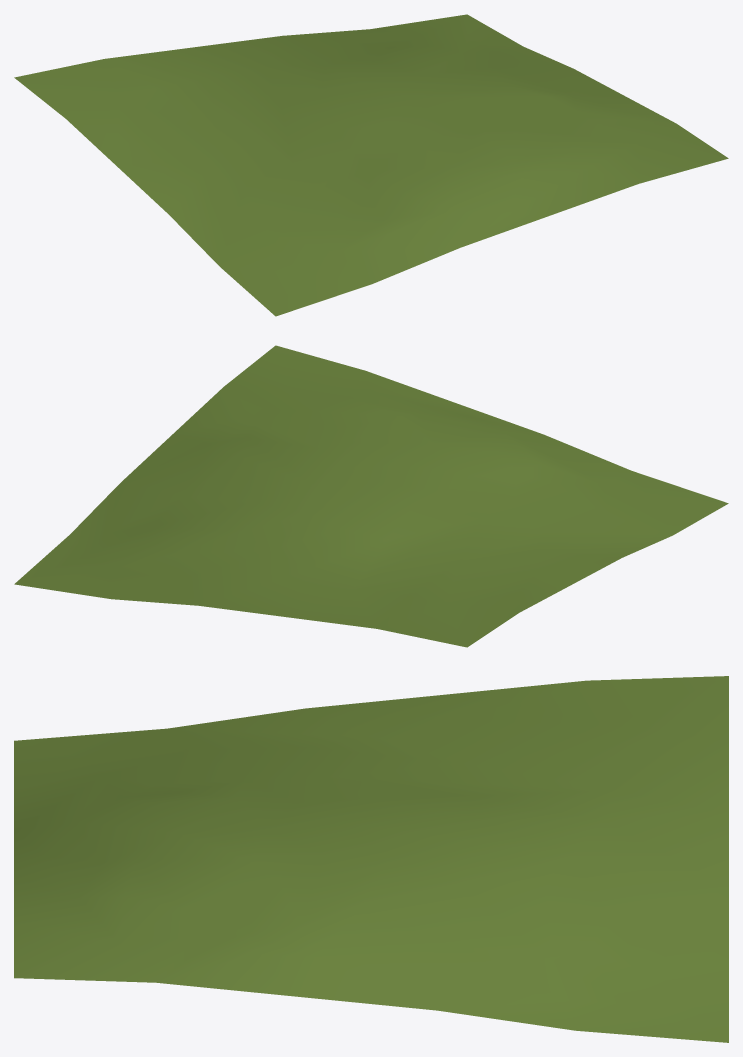
Rendered from rpgpp_ag_terrain_hill_01d_10x10m_1-1-1-1m.fbx.
The picture shows the model from 3 angles, top to bottom: view 1: azimuth 30°, elevation 25°; view 2: azimuth 150°, elevation 25°; view 3: azimuth 270°, elevation 25°; orthographic projection. The views are drawn at different scales.
Parts seen in each view (by area): view 1: rpgpp_ag_terrain_hill_01d_10x10m_1-1-1-1m; view 2: rpgpp_ag_terrain_hill_01d_10x10m_1-1-1-1m; view 3: rpgpp_ag_terrain_hill_01d_10x10m_1-1-1-1m.
Boxes of the visible parts, x1,y1,x2,y2 form: rpgpp_ag_terrain_hill_01d_10x10m_1-1-1-1m: (14,14,728,316); rpgpp_ag_terrain_hill_01d_10x10m_1-1-1-1m: (14,345,728,647); rpgpp_ag_terrain_hill_01d_10x10m_1-1-1-1m: (14,676,728,1042).
Size of the model in its own units: 10 by 1.12 by 10.
